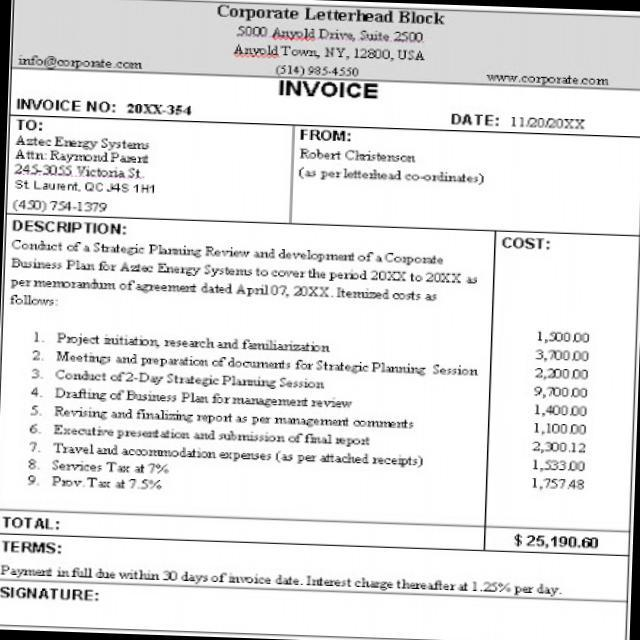customer_address: (10, 164, 166, 198)
customer_name: (13, 132, 157, 165)
invoice_date: (507, 113, 596, 134)
invoice_number: (527, 321, 594, 499), (122, 100, 202, 118)
invoice_total: (511, 531, 608, 553)
item_description: (50, 324, 486, 501)
supplier_address: (230, 23, 430, 65)
supplier_name: (214, 0, 454, 26)
